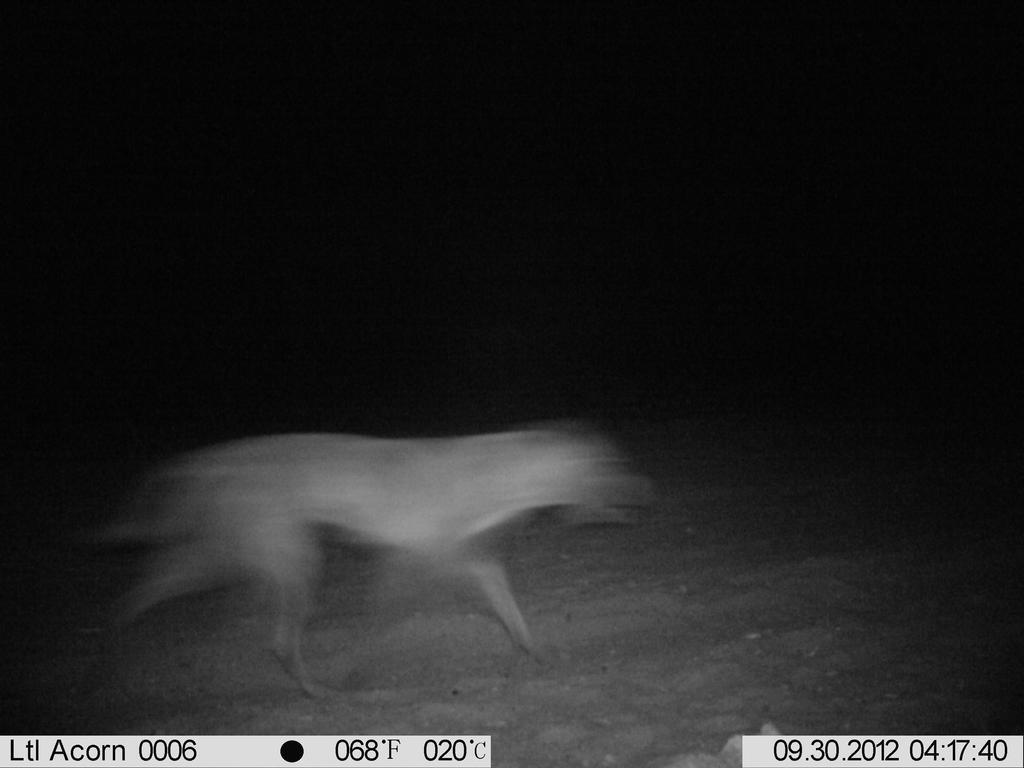dog: (67, 413, 653, 692)
